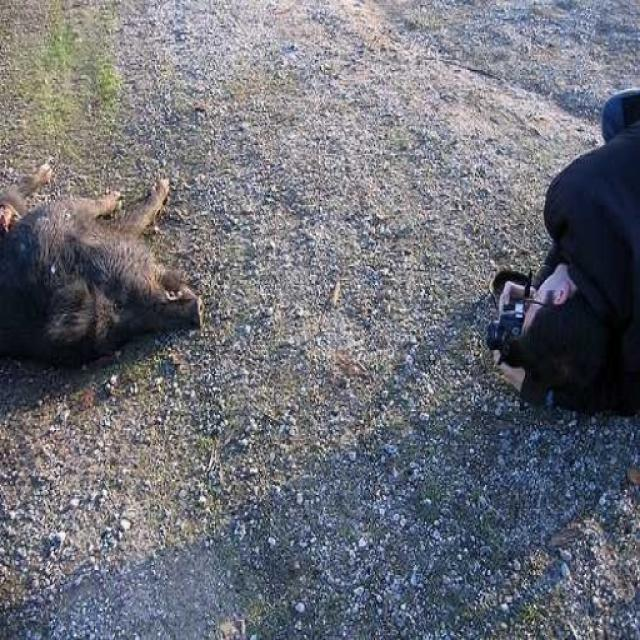pig: (0, 171, 220, 398)
